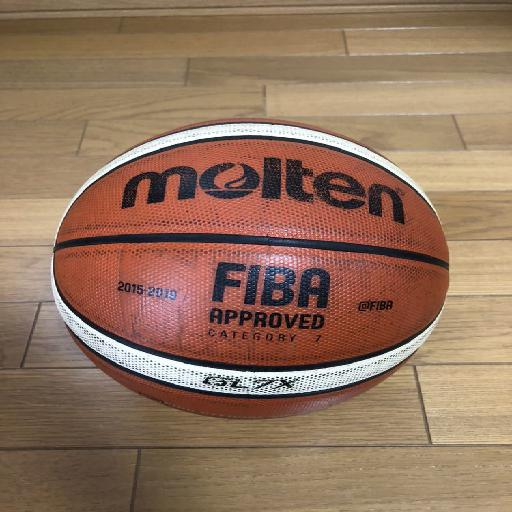ball: (55, 117, 449, 419)
